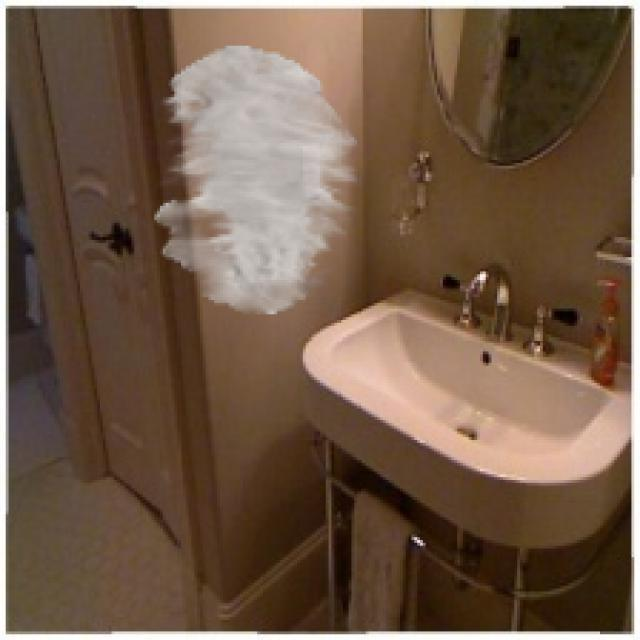Smoke: (154, 46, 360, 314)
